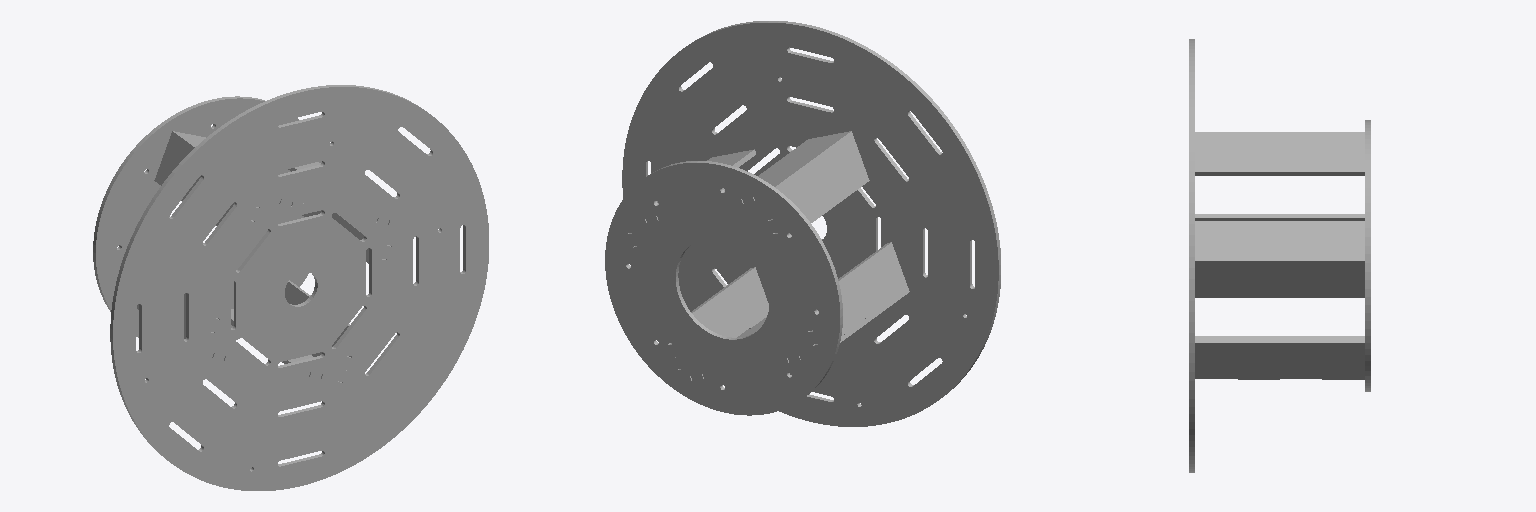
File: tableSupport.obj
3 views of the same model, side by side, from view 1: azimuth 30°, elevation 25°; view 2: azimuth 150°, elevation 25°; view 3: azimuth 270°, elevation 25° (orthographic).
Bounding box in the file's own units: 800 × 800 × 333.